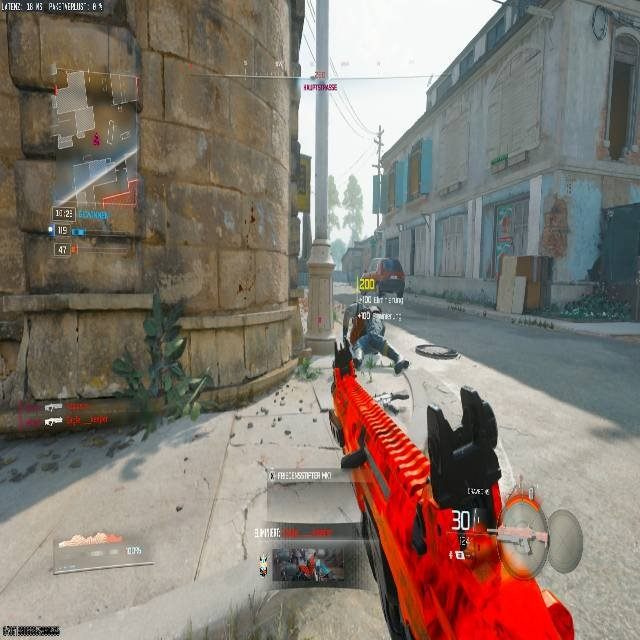head: (367, 318, 385, 336)
player: (348, 305, 410, 378)
